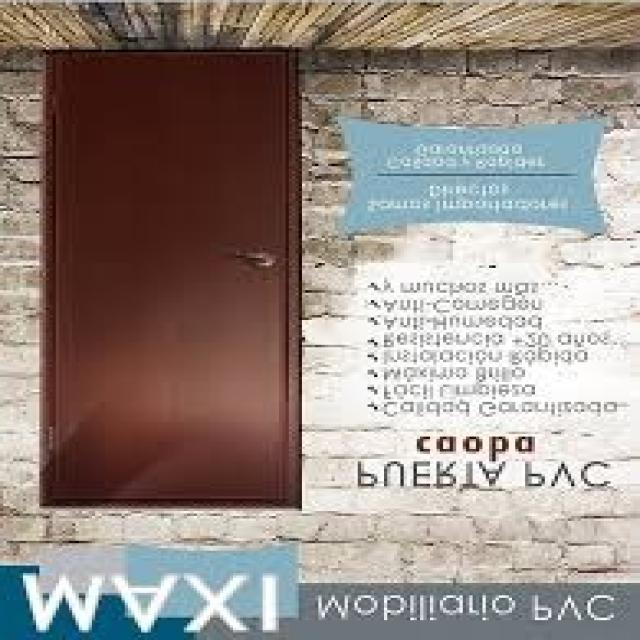door: (38, 49, 304, 512)
